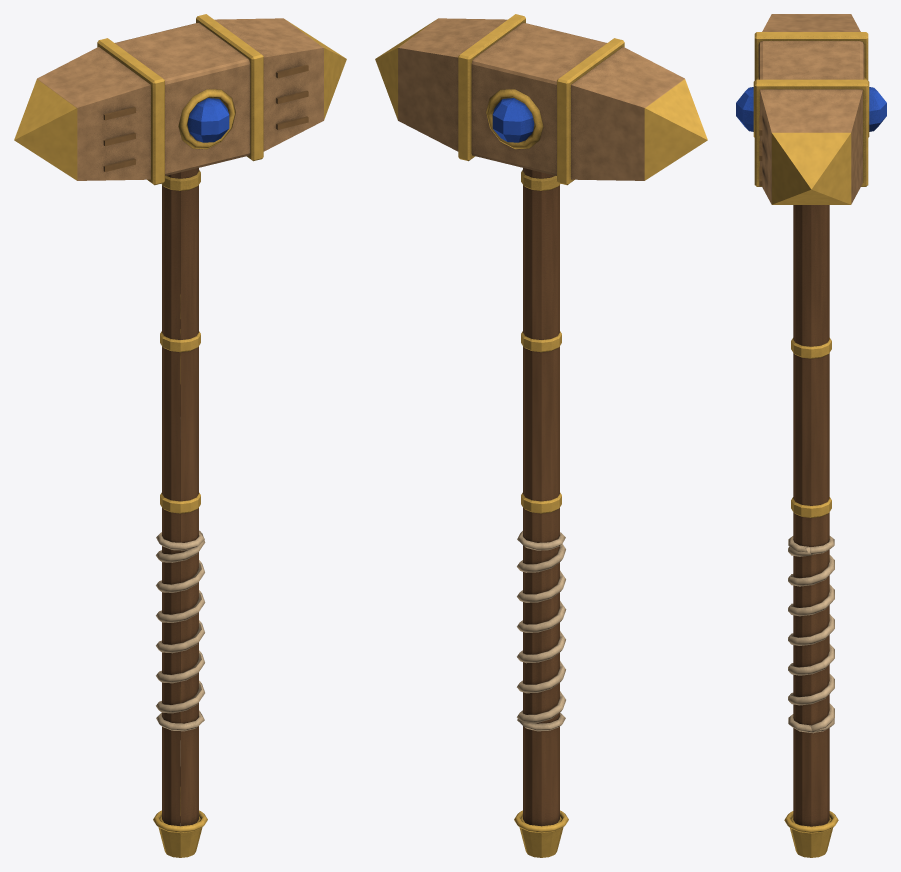
Rendered from 02_desert_heavy.fbx.
The picture shows the model from 3 angles, left to right: view 1: azimuth 30°, elevation 25°; view 2: azimuth 150°, elevation 25°; view 3: azimuth 270°, elevation 25°; orthographic projection.
Parts seen in each view (by area): view 1: Weapon; view 2: Weapon; view 3: Weapon.
Boxes of the visible parts, x1,y1,x2,y2 form: Weapon: (14, 14, 346, 857); Weapon: (375, 14, 707, 857); Weapon: (736, 14, 886, 857).
Bounding box in the file's own units: 60.67 × 140 × 24.12.
Materials: 1 (1 with a texture image).
